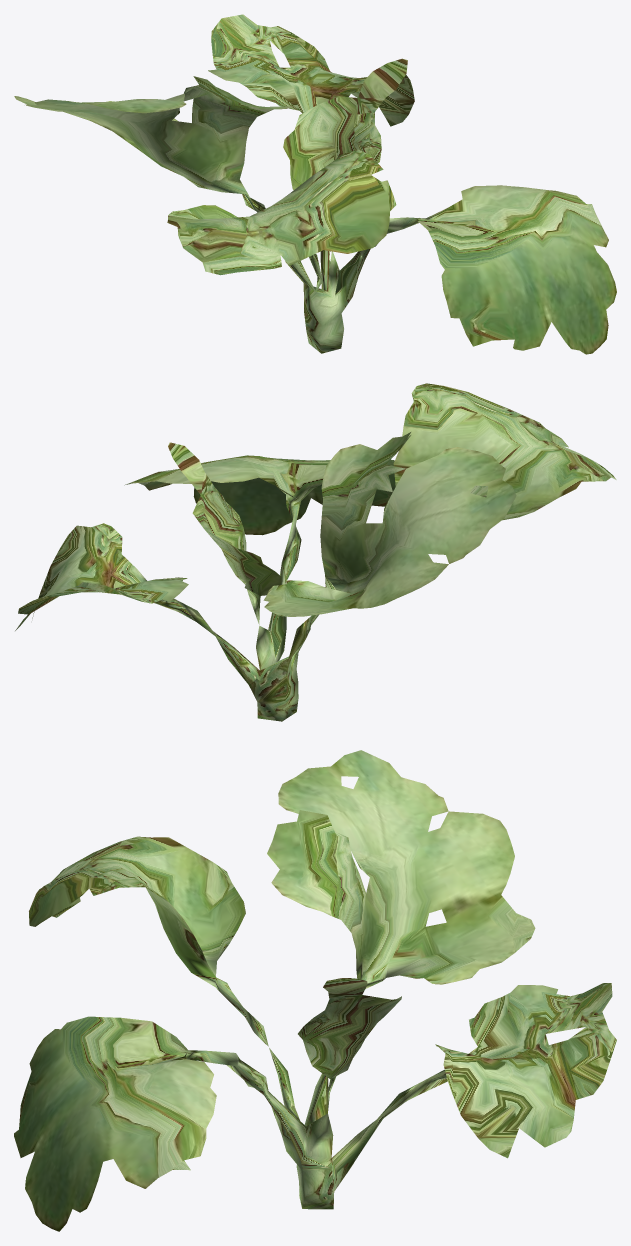
File: lingcao_huichun_young.obj
The picture shows the model from 3 angles, top to bottom: view 1: azimuth 30°, elevation 25°; view 2: azimuth 150°, elevation 25°; view 3: azimuth 270°, elevation 25°; orthographic projection. The views are drawn at different scales.
Visible parts, largest first — view 1: lingcao_huichun_young; view 2: lingcao_huichun_young; view 3: lingcao_huichun_young.
Part boxes in pixels (x1=…): lingcao_huichun_young: x1=14, y1=14, x2=616, y2=354; lingcao_huichun_young: x1=15, y1=383, x2=616, y2=721; lingcao_huichun_young: x1=14, y1=750, x2=616, y2=1231.
Size of the model in its own units: 0.2666 by 0.1653 by 0.2756.
Materials: 1 (1 with a texture image).
